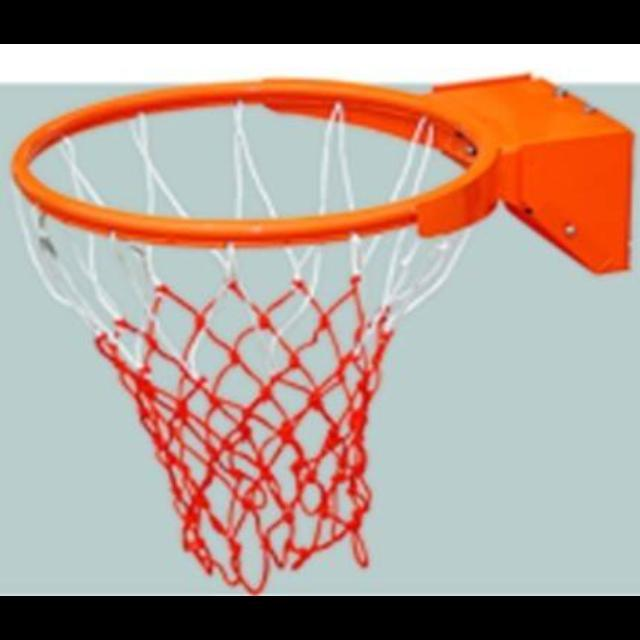rim: (13, 78, 499, 596)
